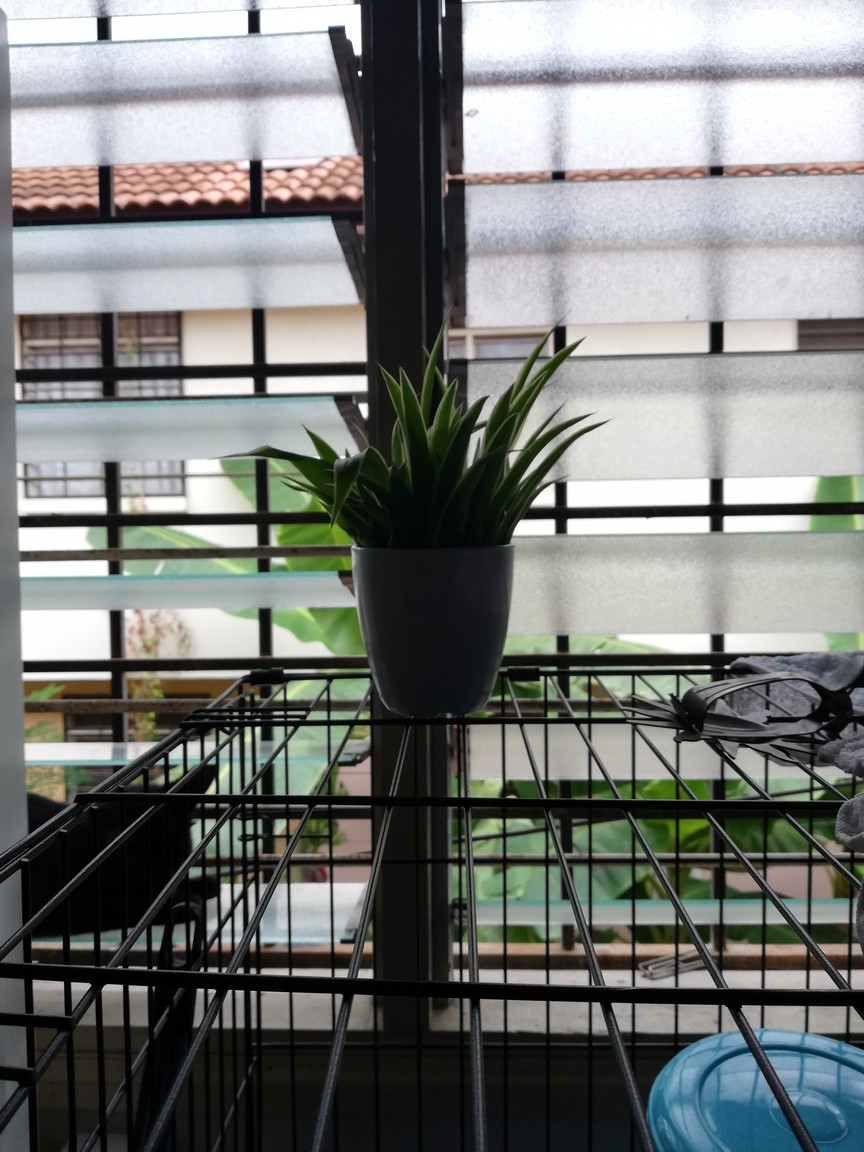daun: (521, 302, 575, 364), (208, 444, 312, 471), (331, 459, 360, 532), (428, 303, 454, 371), (549, 334, 590, 372), (514, 369, 551, 409), (567, 417, 612, 449), (555, 411, 600, 441), (537, 402, 568, 444), (493, 408, 524, 449), (301, 421, 331, 458), (398, 366, 420, 414), (280, 474, 318, 501), (535, 474, 570, 502), (375, 363, 400, 401), (464, 393, 492, 422), (438, 376, 459, 406), (499, 380, 516, 414), (451, 401, 467, 431), (470, 437, 482, 466), (343, 442, 355, 464)
